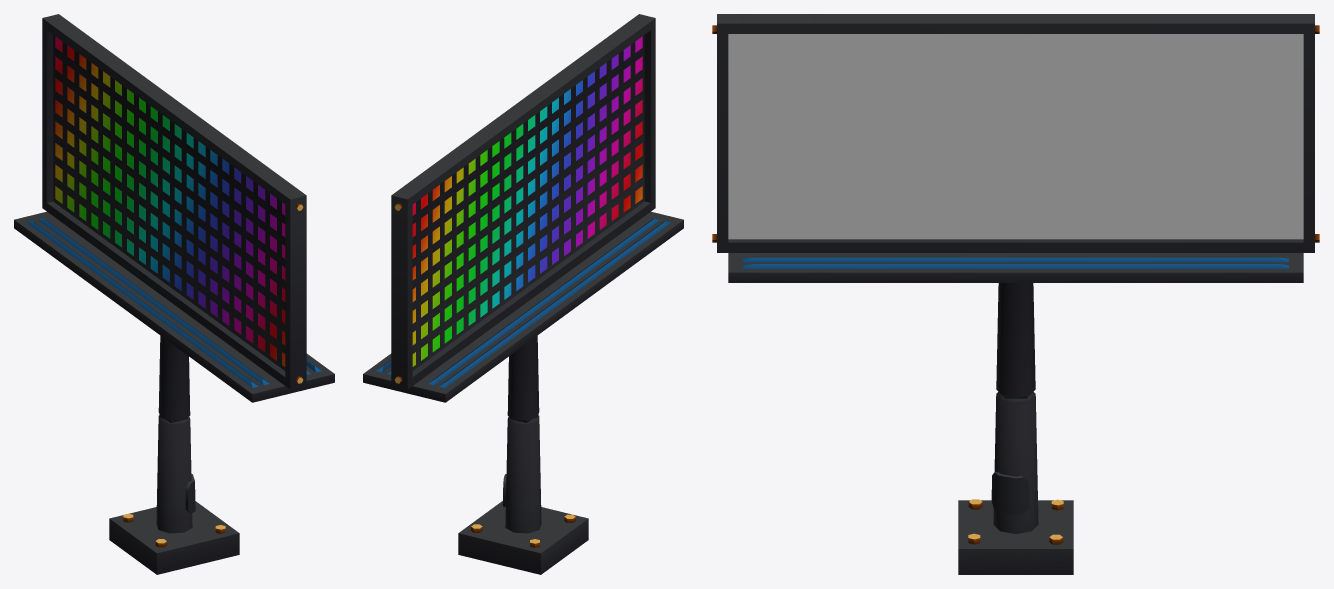
The model's file is Billboard_2F.fbx.
The picture shows the model from 3 angles, left to right: view 1: azimuth 30°, elevation 25°; view 2: azimuth 150°, elevation 25°; view 3: azimuth 270°, elevation 25°; orthographic projection. The views are drawn at different scales.
Visible parts, largest first — view 1: Billboard_2F, Billboard_2F_Image.L; view 2: Billboard_2F, Billboard_2F_Image.L; view 3: Billboard_2F_Image.R, Billboard_2F.
Boxes of the visible parts, <box> form: Billboard_2F: <box>14,14,334,574</box>; Billboard_2F_Image.L: <box>55,36,285,366</box>; Billboard_2F: <box>363,14,683,574</box>; Billboard_2F_Image.L: <box>412,36,642,366</box>; Billboard_2F_Image.R: <box>728,34,1303,239</box>; Billboard_2F: <box>712,14,1319,574</box>.
Bounding box in the file's own units: 2 × 10.2 × 10.56.
